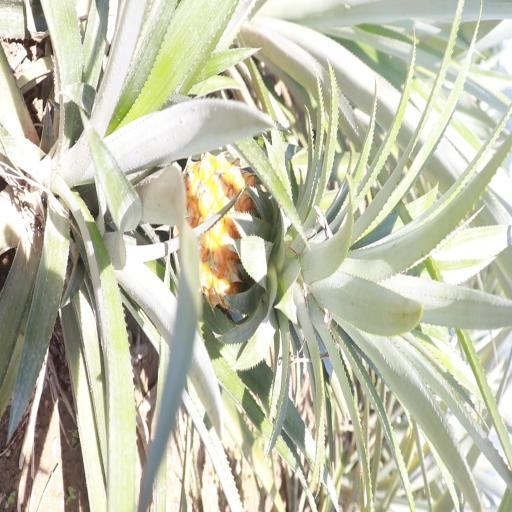Pineapple - v8 v1: (186, 149, 427, 338)
